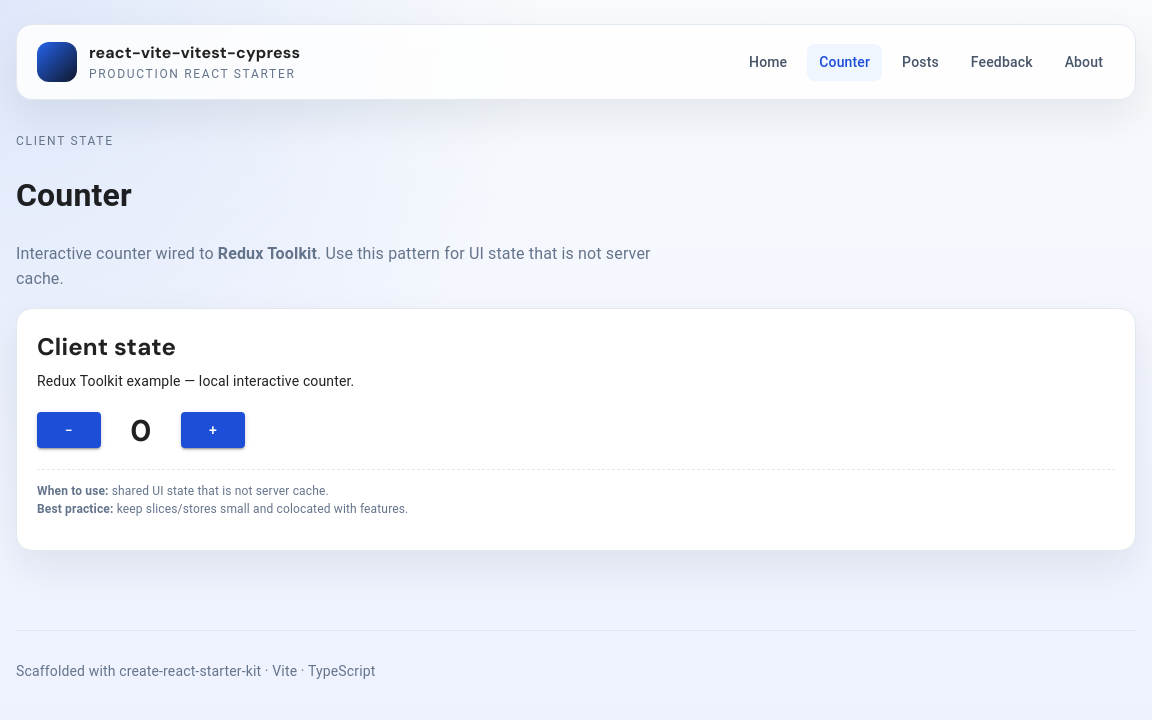
Test: Counter page › increments and decrements the counter
Expected: the text with test id "counter-value" reads "0", [130, 411, 151, 450]
What coordinates should you click on to do the following:
click the button with test id "counter-increment"
I would click on:
 (213, 431)
Its box is [181, 412, 245, 449].
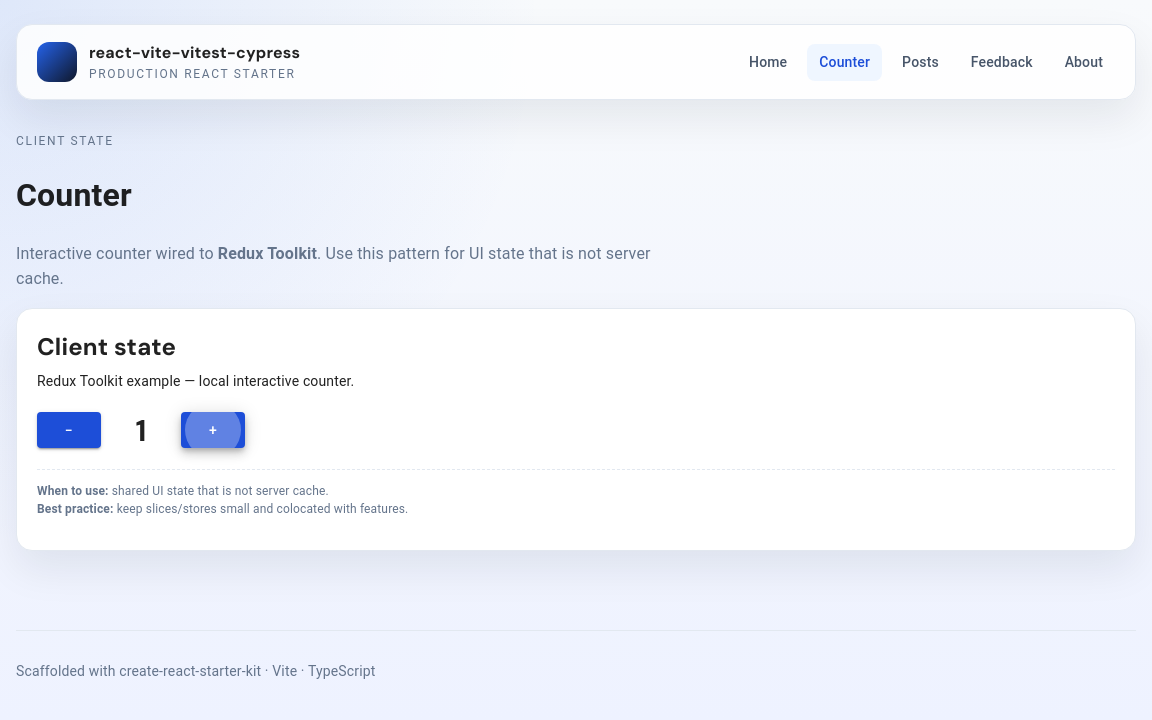
Result: the text with test id "counter-value" reads "1" at [136, 411, 147, 450]
What coordinates should you click on to do the following:
click the button with test id "counter-increment"
I would click on:
 (213, 431)
Its box is [181, 412, 245, 449].
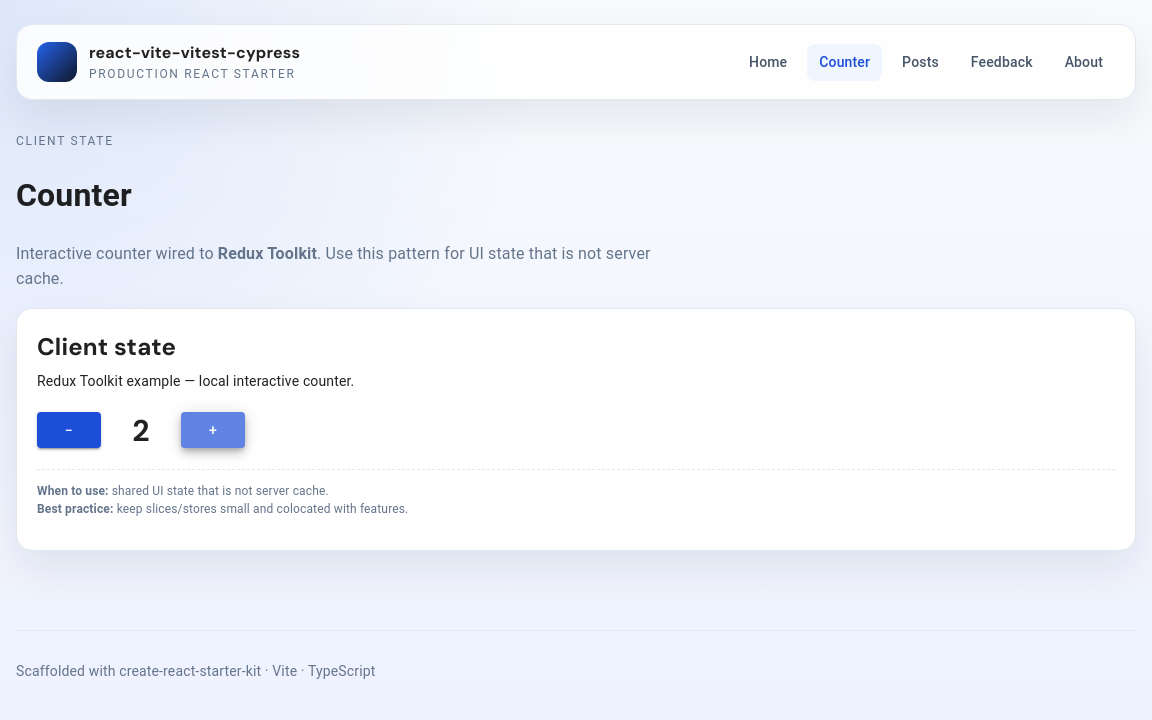
Result: the text with test id "counter-value" reads "2" at [132, 411, 150, 450]
What coordinates should you click on to do the following:
click the button with test id "counter-decrement"
I would click on:
 (69, 431)
Its box is [37, 412, 101, 449].
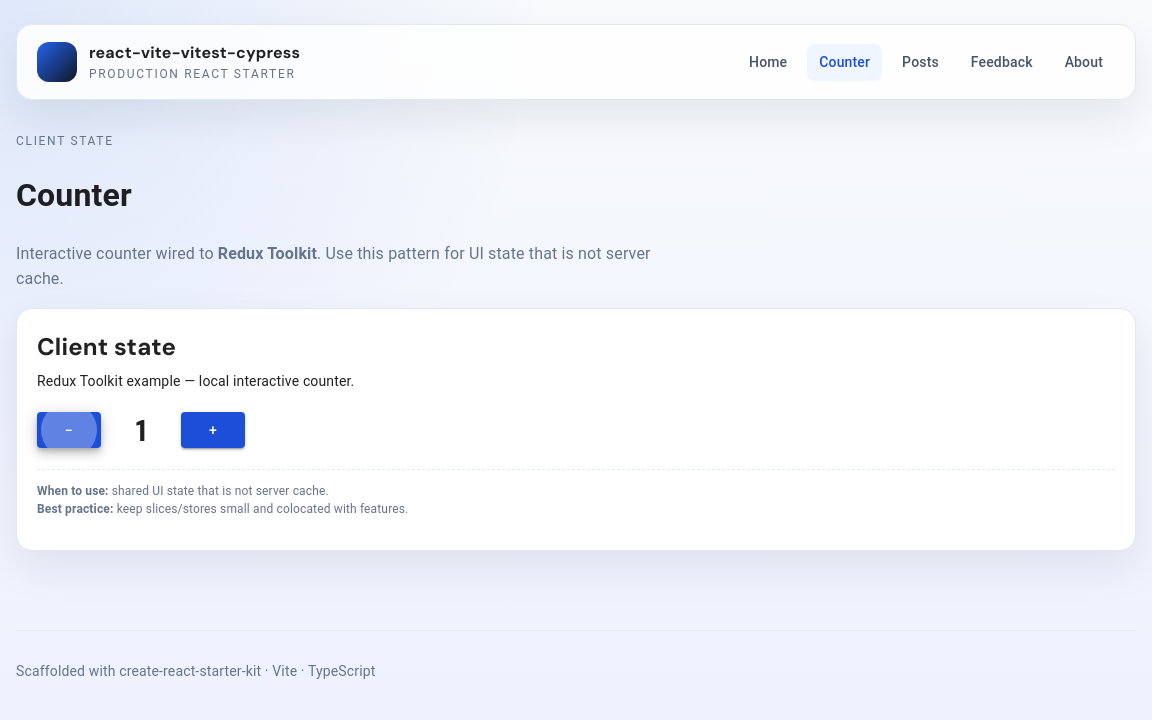
Result: the text with test id "counter-value" reads "1" at [136, 411, 147, 450]
